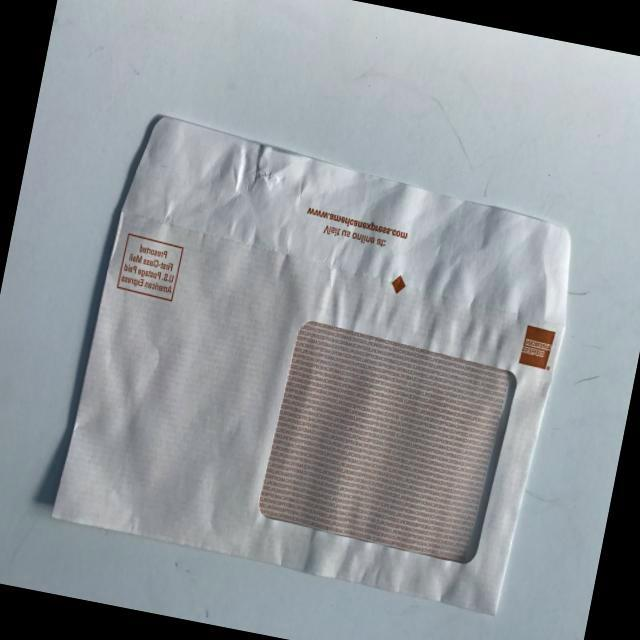paper: (33, 81, 607, 640)
